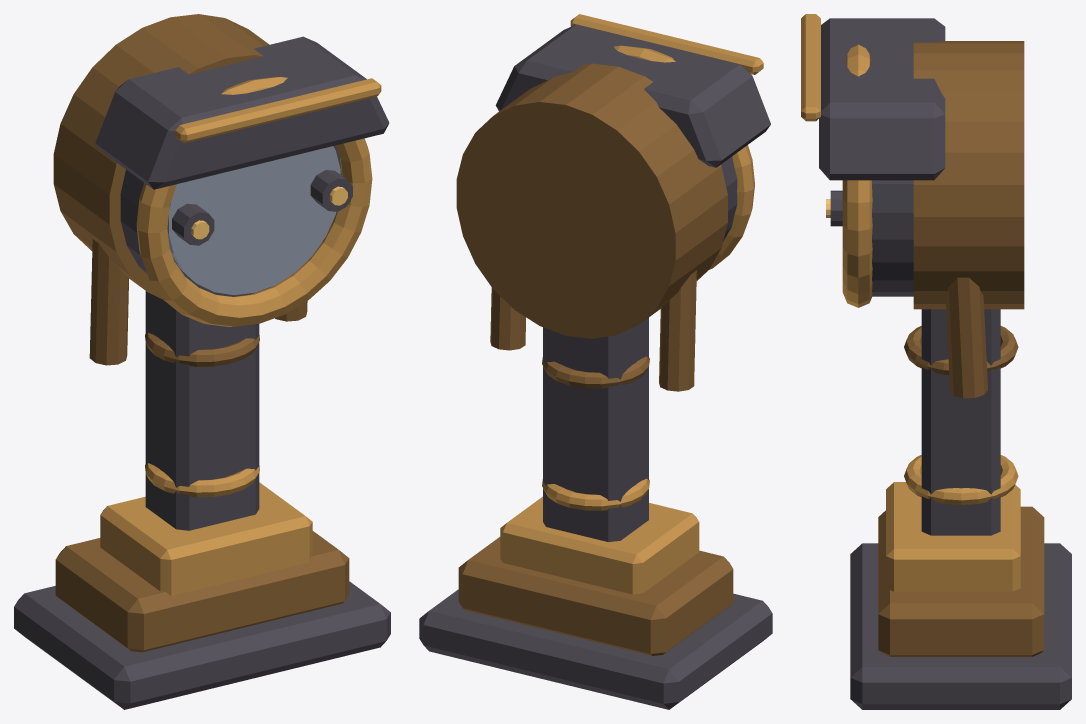
The model's file is SM_S3Take_CueLamp.fbx.
The picture shows the model from 3 angles, left to right: view 1: azimuth 30°, elevation 25°; view 2: azimuth 150°, elevation 25°; view 3: azimuth 270°, elevation 25°; orthographic projection. The views are drawn at different scales.
Visible parts, largest first — view 1: SM_S3Take_CueLamp; view 2: SM_S3Take_CueLamp; view 3: SM_S3Take_CueLamp.
Boxes of the visible parts, x1,y1,x2,y2 form: SM_S3Take_CueLamp: (14, 14, 390, 709); SM_S3Take_CueLamp: (419, 14, 772, 709); SM_S3Take_CueLamp: (801, 14, 1071, 709).
Size of the model in its own units: 40 by 34.25 by 83.
